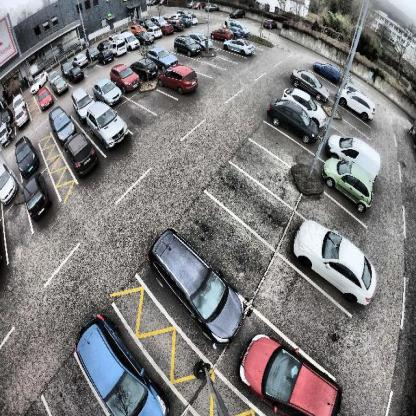free: (197, 209, 261, 275), (228, 172, 284, 235), (274, 285, 330, 344), (250, 150, 298, 198), (264, 128, 311, 163), (323, 193, 356, 230), (120, 102, 150, 128), (150, 93, 172, 118), (338, 117, 360, 140), (346, 113, 364, 132), (214, 52, 227, 71), (231, 48, 245, 65), (202, 59, 213, 79)
occupied: (152, 240, 236, 335), (68, 319, 145, 396), (292, 228, 378, 291), (240, 332, 317, 399), (323, 160, 376, 201), (329, 126, 384, 162), (87, 100, 130, 146), (266, 100, 312, 132), (278, 86, 321, 118), (65, 129, 96, 171), (164, 62, 199, 94), (25, 176, 51, 219), (341, 85, 375, 117), (293, 64, 325, 94), (46, 108, 74, 139), (14, 138, 37, 172), (113, 58, 136, 92), (70, 85, 92, 120), (0, 159, 17, 203), (95, 75, 120, 103), (316, 54, 342, 80)
